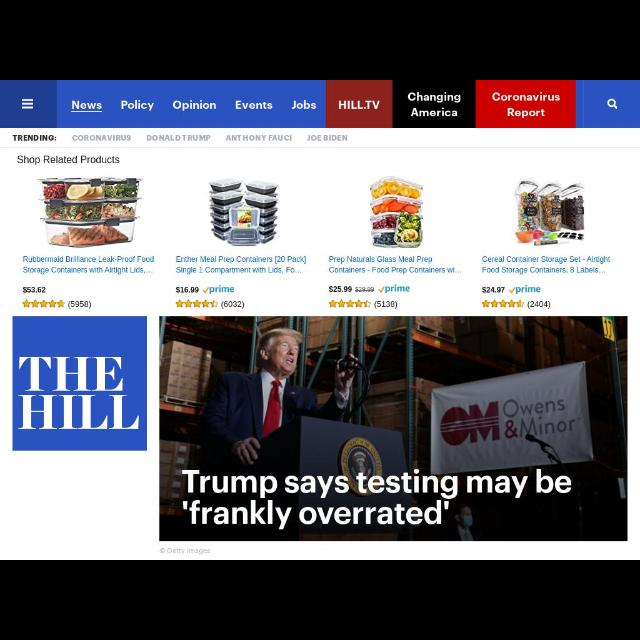icon: (18, 97, 36, 111), (606, 95, 618, 112)
image: (160, 316, 628, 542), (13, 316, 147, 449), (34, 173, 144, 250), (202, 172, 288, 248), (511, 178, 589, 250), (363, 174, 429, 252), (176, 298, 220, 308), (331, 298, 374, 308), (23, 298, 65, 308), (484, 298, 524, 308), (510, 285, 540, 295), (379, 284, 409, 294), (202, 286, 238, 294)
link: (175, 252, 311, 276), (329, 253, 463, 275), (481, 253, 613, 275), (22, 254, 154, 276)
multitab: (1, 130, 639, 146)
text: (491, 89, 564, 119), (408, 90, 462, 118), (17, 154, 122, 166), (337, 96, 383, 110), (172, 98, 216, 112), (233, 98, 273, 112), (226, 134, 294, 142), (147, 134, 210, 142), (72, 134, 132, 142), (121, 98, 155, 112), (68, 98, 102, 112), (12, 132, 58, 142), (159, 548, 211, 556), (306, 133, 352, 141), (289, 99, 317, 111), (482, 284, 506, 296), (68, 298, 92, 310), (22, 284, 48, 294), (176, 285, 200, 295), (222, 300, 246, 310), (375, 300, 399, 308), (528, 300, 552, 308), (356, 285, 374, 295), (330, 286, 350, 292)
toolbar: (1, 81, 638, 127)
